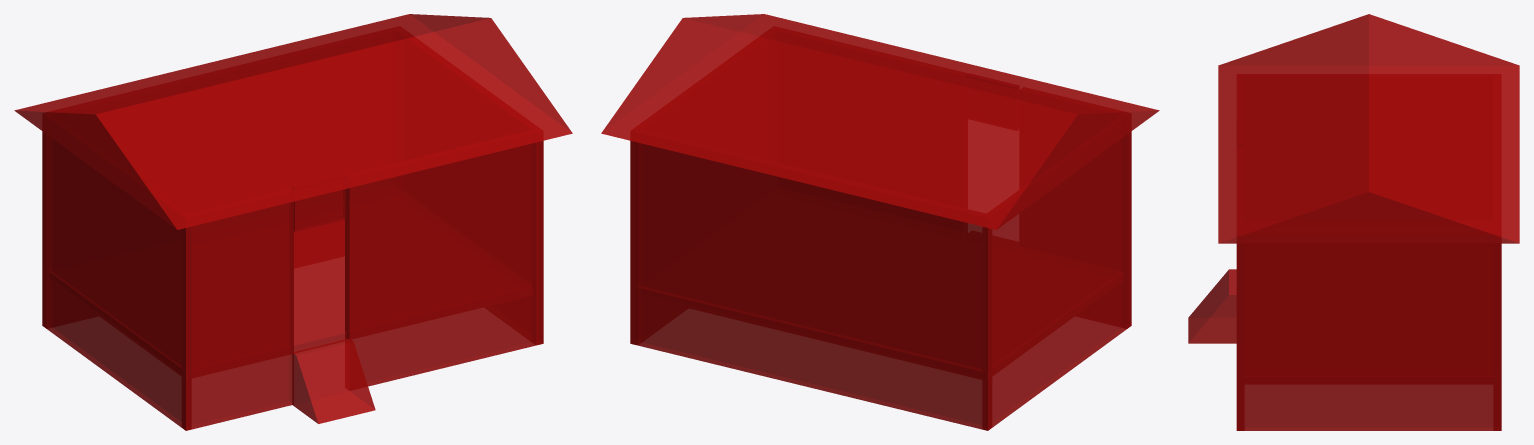
File: SM_Bld_Plywood_Shed_01_Collision.fbx
3 renders of one model, left to right at view 1: azimuth 30°, elevation 25°; view 2: azimuth 150°, elevation 25°; view 3: azimuth 270°, elevation 25°, orthographic. The views are drawn at different scales.
Parts seen in each view (by area): view 1: SM_Bld_Plywood_Shed_01_Collision; view 2: SM_Bld_Plywood_Shed_01_Collision; view 3: SM_Bld_Plywood_Shed_01_Collision.
Boxes of the visible parts, x1,y1,x2,y2 form: SM_Bld_Plywood_Shed_01_Collision: [14, 14, 572, 430]; SM_Bld_Plywood_Shed_01_Collision: [601, 14, 1159, 430]; SM_Bld_Plywood_Shed_01_Collision: [1188, 14, 1519, 430].
Size of the model in its own units: 797 by 517 by 627.
